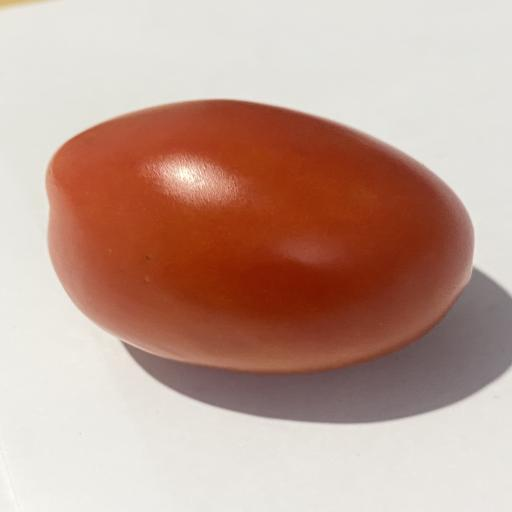ripe: (47, 100, 473, 373)
